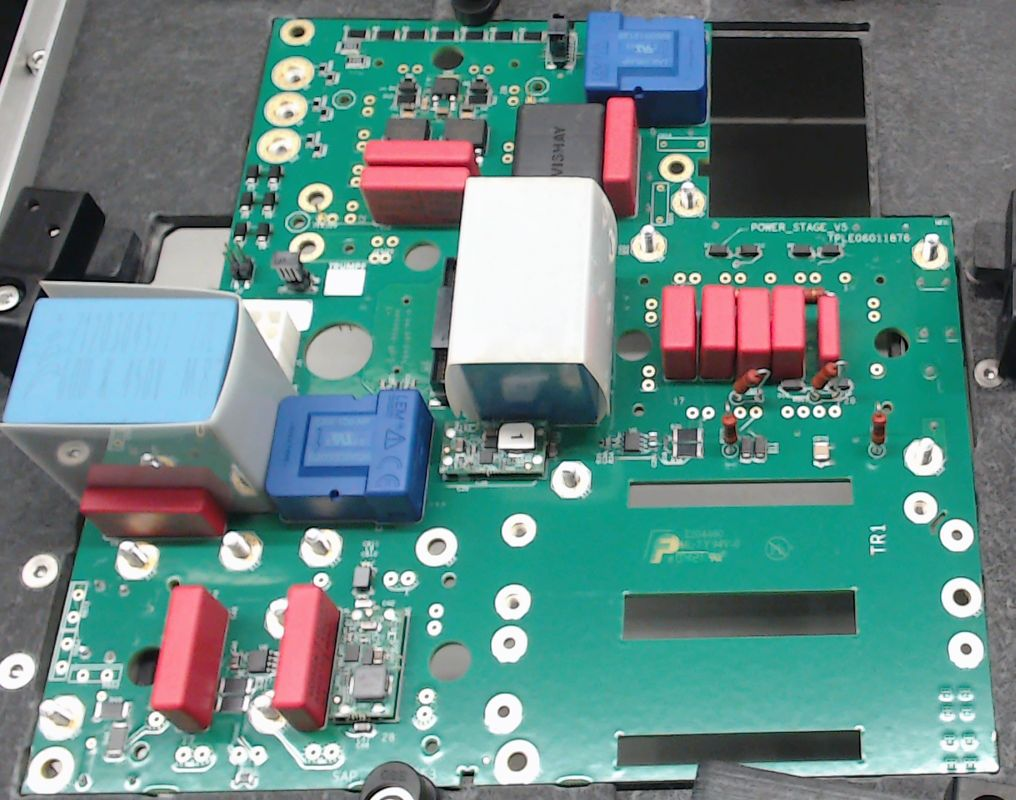comp1: (261, 388, 437, 524), (582, 11, 711, 125)
comp2: (151, 586, 230, 733), (273, 583, 340, 732), (76, 487, 230, 538), (361, 167, 472, 226), (601, 97, 640, 219), (658, 283, 699, 382), (697, 283, 736, 380), (769, 282, 807, 380), (736, 282, 771, 375), (360, 140, 479, 166), (815, 292, 841, 367)
comp3: (513, 102, 605, 181)
comp4: (1, 279, 296, 517), (444, 176, 621, 428)
